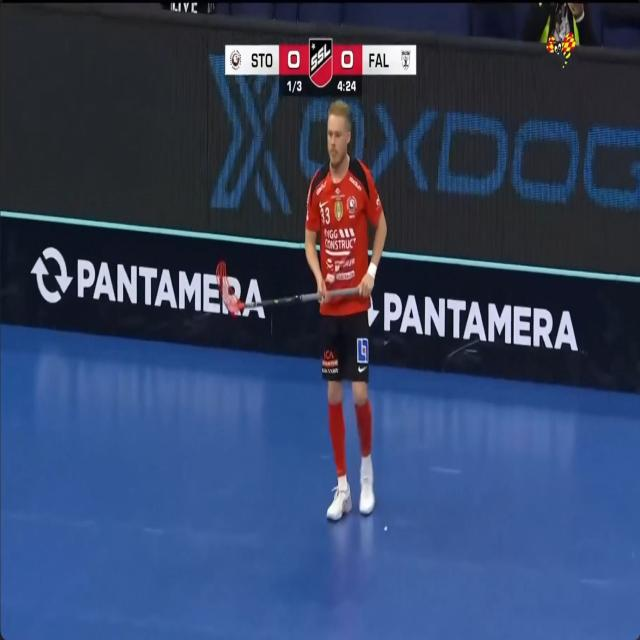player: (306, 100, 386, 520)
stick: (216, 261, 320, 315), (243, 293, 319, 308), (333, 287, 358, 299)
